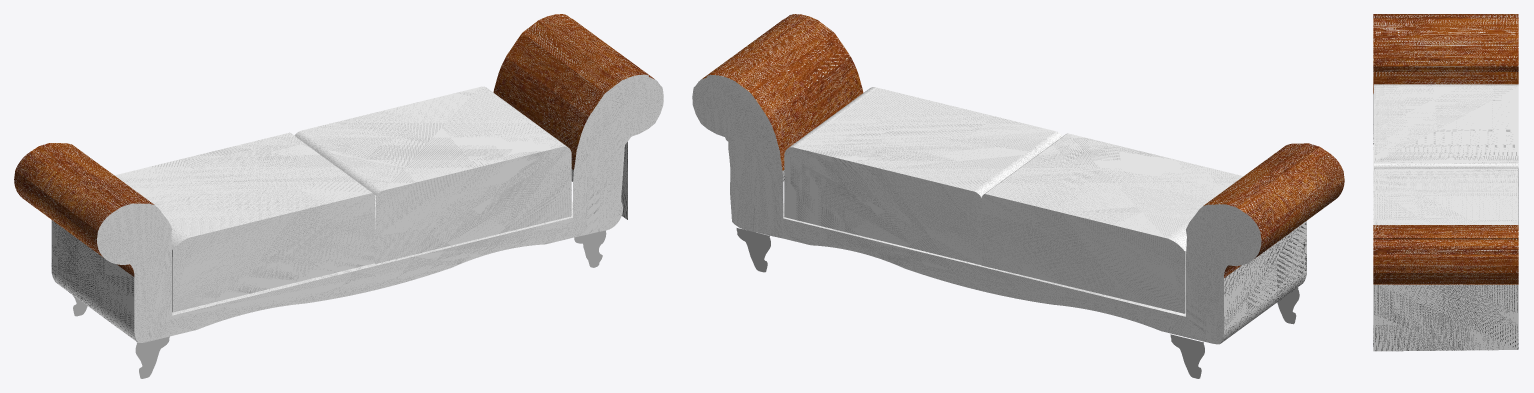
3 renders of one model, left to right at view 1: azimuth 30°, elevation 25°; view 2: azimuth 150°, elevation 25°; view 3: azimuth 270°, elevation 25°, orthographic. The views are drawn at different scales.
Parts seen in each view (by area): view 1: mesh2_mesh2-geometry, mesh1_mesh1-geometry, mesh4_mesh4-geometry, mesh3_mesh3-geometry; view 2: mesh2_mesh2-geometry, mesh1_mesh1-geometry, mesh5_mesh5-geometry, mesh6_mesh6-geometry; view 3: mesh2_mesh2-geometry, mesh1_mesh1-geometry, mesh7_mesh7-geometry.
Part boxes in pixels (left/top/right/bottom): mesh2_mesh2-geometry: left=115, top=86, right=571, bottom=312; mesh1_mesh1-geometry: left=14, top=14, right=663, bottom=342; mesh4_mesh4-geometry: left=135, top=336, right=169, bottom=378; mesh3_mesh3-geometry: left=574, top=230, right=606, bottom=267; mesh2_mesh2-geometry: left=784, top=87, right=1243, bottom=313; mesh1_mesh1-geometry: left=692, top=14, right=1344, bottom=344; mesh5_mesh5-geometry: left=736, top=228, right=770, bottom=272; mesh6_mesh6-geometry: left=1170, top=334, right=1204, bottom=378; mesh2_mesh2-geometry: left=1374, top=84, right=1518, bottom=224; mesh1_mesh1-geometry: left=1373, top=14, right=1518, bottom=284; mesh7_mesh7-geometry: left=1373, top=284, right=1518, bottom=351.
Size of the model in its own units: 0.9268 by 0.2919 by 0.2361.
